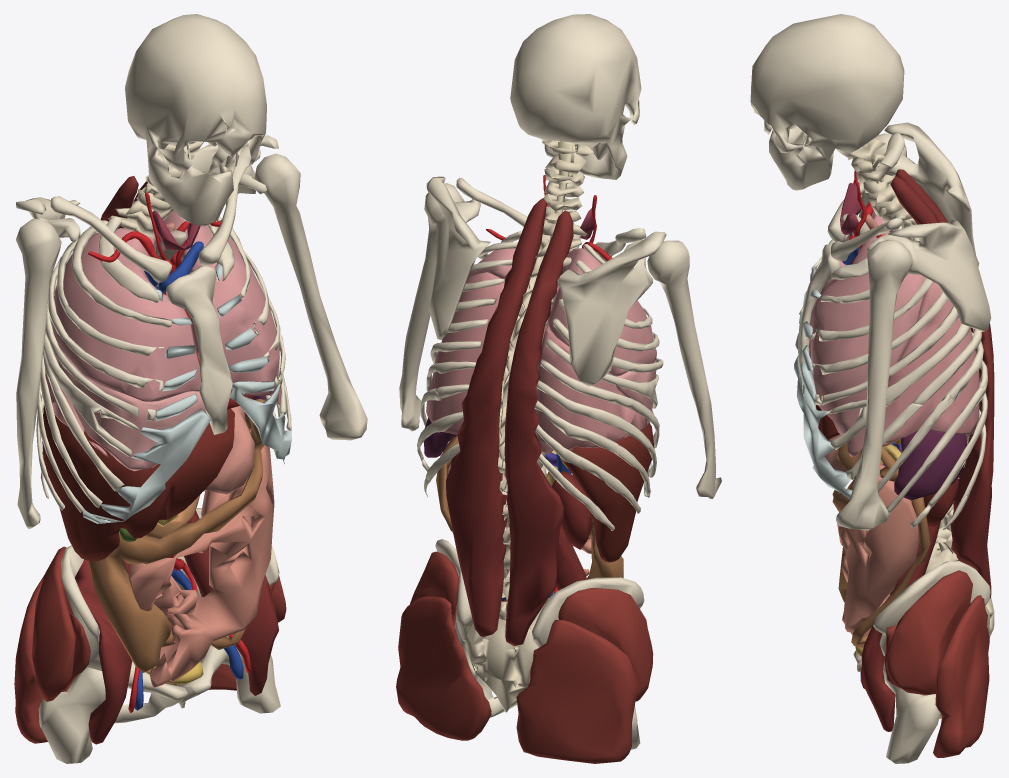
3 renders of one model, left to right at view 1: azimuth 30°, elevation 25°; view 2: azimuth 150°, elevation 25°; view 3: azimuth 270°, elevation 25°, orthographic. The views are drawn at different scales.
Visible parts, largest first — view 1: skull, small_bowel, lung_upper_lobe_right, liver, costal_cartilages, colon, humerus_left, humerus_right, lung_upper_lobe_left, sternum, gluteus_medius_right, lung_middle_lobe_right (+27 smaller); view 2: skull, autochthon_left, autochthon_right, gluteus_maximus_right, gluteus_maximus_left, scapula_right, humerus_right, liver, scapula_left, gluteus_medius_right, lung_lower_lobe_right, lung_lower_lobe_left (+22 smaller); view 3: skull, humerus_left, lung_upper_lobe_left, small_bowel, gluteus_maximus_left, gluteus_medius_left, autochthon_left, scapula_left, lung_lower_lobe_left, scapula_right, costal_cartilages, spleen (+22 smaller).
Part boxes in pixels (box(x1,y1,x2,y2)): skull: box(125, 14, 266, 226); small_bowel: box(128, 428, 274, 687); lung_upper_lobe_right: box(52, 228, 200, 401); liver: box(42, 405, 234, 561); costal_cartilages: box(82, 263, 291, 523); colon: box(89, 399, 272, 672); humerus_left: box(254, 153, 367, 440); humerus_right: box(16, 218, 61, 528); lung_upper_lobe_left: box(154, 210, 280, 404); sternum: box(166, 265, 232, 434); gluteus_medius_right: box(31, 546, 75, 701); lung_middle_lobe_right: box(53, 350, 206, 471); skull: box(510, 14, 641, 179); autochthon_left: box(446, 198, 546, 637); autochthon_right: box(504, 210, 573, 646); gluteus_maximus_right: box(516, 620, 639, 763); gluteus_maximus_left: box(396, 596, 491, 740); scapula_right: box(558, 231, 666, 386); humerus_right: box(647, 240, 721, 499); liver: box(561, 422, 654, 562); scapula_left: box(426, 176, 490, 339); gluteus_medius_right: box(558, 588, 653, 701); lung_lower_lobe_right: box(535, 324, 649, 453); lung_lower_lobe_left: box(426, 272, 504, 434); skull: box(750, 14, 904, 190); humerus_left: box(836, 240, 912, 530); lung_upper_lobe_left: box(810, 235, 925, 457); small_bowel: box(837, 463, 919, 636); gluteus_maximus_left: box(933, 595, 989, 757); gluteus_medius_left: box(887, 570, 972, 695); autochthon_left: box(890, 176, 994, 598); scapula_left: box(867, 219, 991, 331); lung_lower_lobe_left: box(884, 282, 979, 444); scapula_right: box(884, 122, 979, 266); costal_cartilages: box(794, 267, 852, 499); spleen: box(894, 429, 967, 500).
Size of the model in its own units: 0.4377 by 0.9119 by 0.2912.
